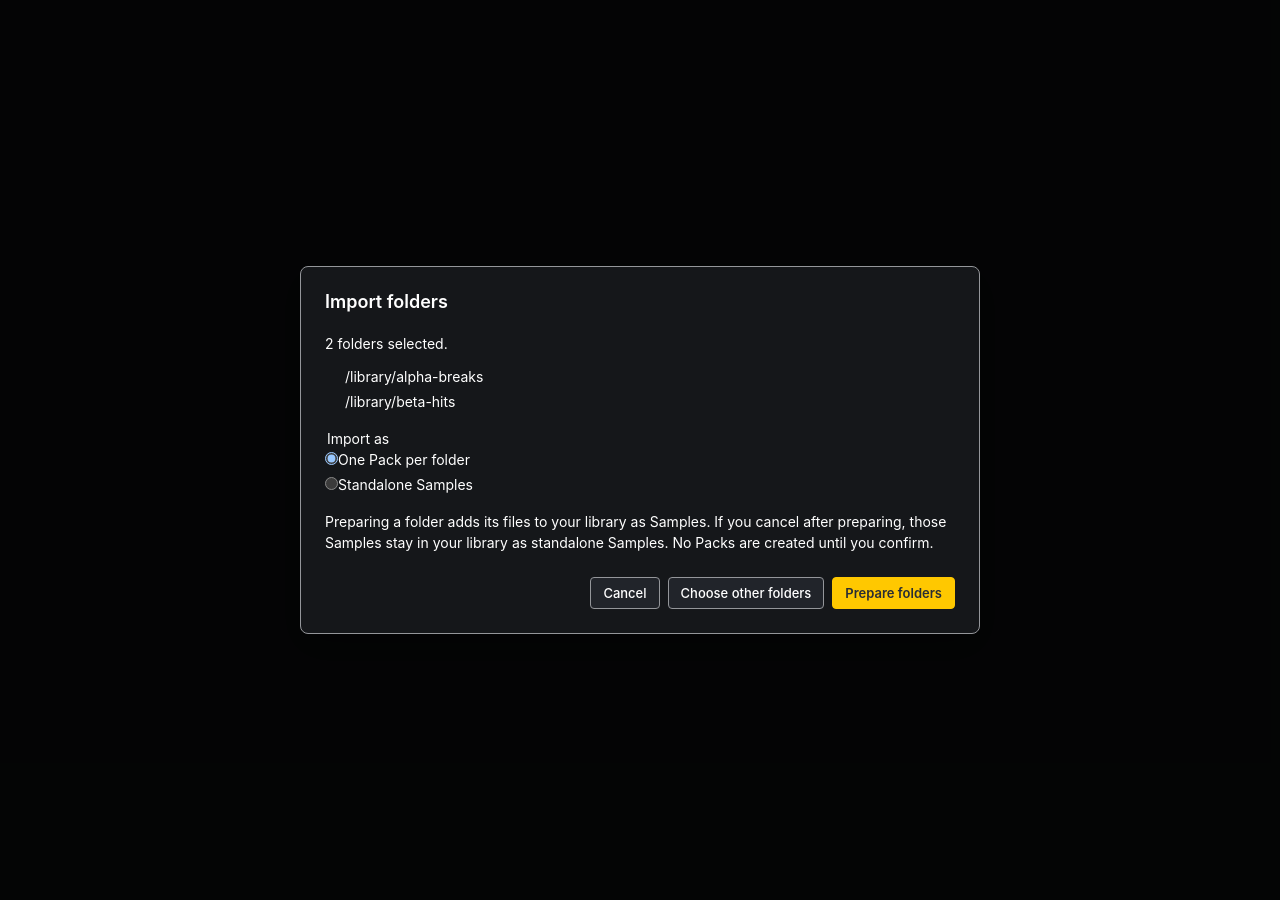
Test case: prepares each folder once and shows its Sample and conflict counts
Click the button "Prepare folders": (894,593) x1=832 y1=577 x2=955 y2=609
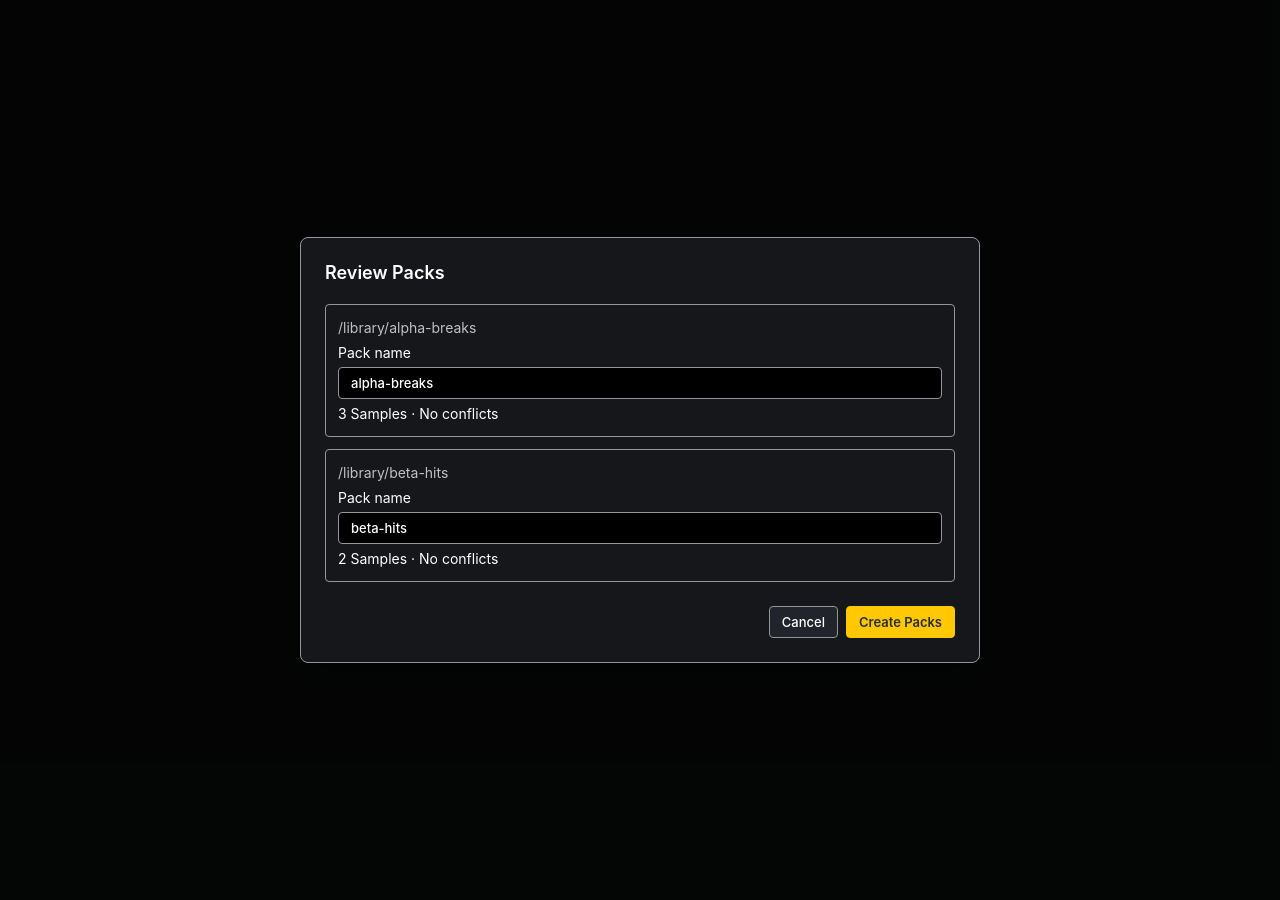
Expected: the field labelled "Pack name" below "/library/alpha-breaks" holds "alpha-breaks", x1=338 y1=367 x2=942 y2=399
Expected: the element "/library/alpha-breaks" shows "3 Samples", x1=325 y1=304 x2=955 y2=437
Expected: the element "/library/alpha-breaks" shows "No conflicts", x1=419 y1=405 x2=498 y2=422
